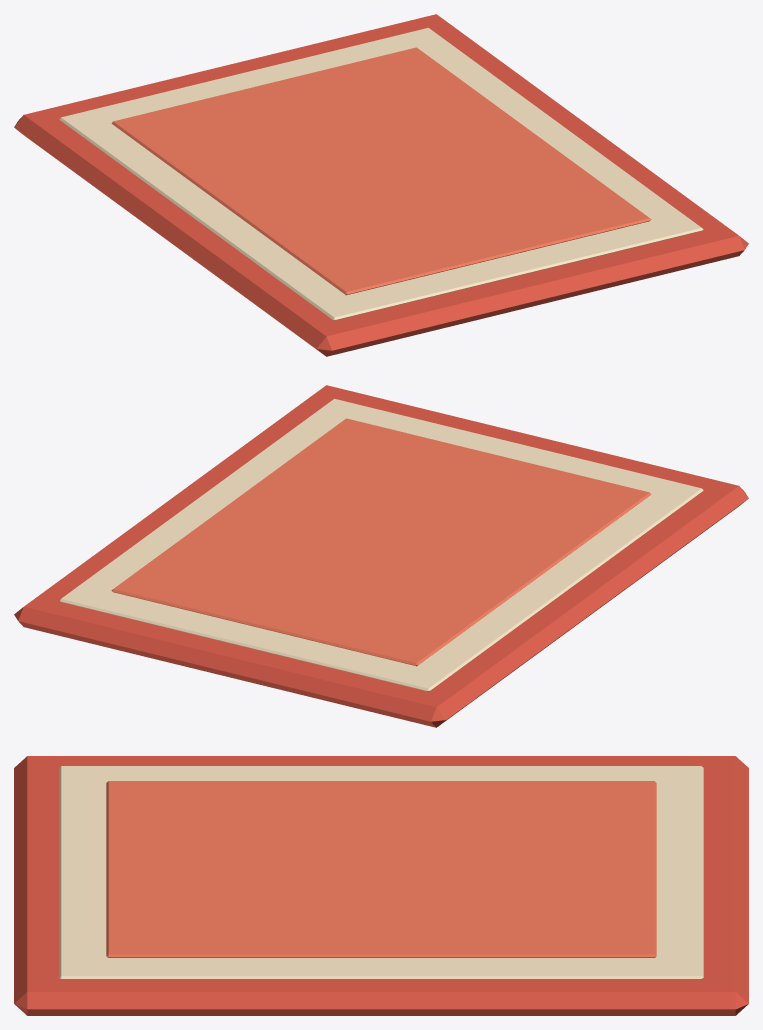
The model's file is _Rug.fbx.
The picture shows the model from 3 angles, top to bottom: view 1: azimuth 30°, elevation 25°; view 2: azimuth 150°, elevation 25°; view 3: azimuth 270°, elevation 25°; orthographic projection. The views are drawn at different scales.
Parts seen in each view (by area): view 1: 12_Rug / Coral center, 12_Rug / Coral rug, 12_Rug / Ivory border; view 2: 12_Rug / Coral center, 12_Rug / Coral rug, 12_Rug / Ivory border; view 3: 12_Rug / Coral center, 12_Rug / Coral rug, 12_Rug / Ivory border.
Part boxes in pixels (x1,y1,x2,y2): 12_Rug / Coral center: (111,47,651,295); 12_Rug / Coral rug: (14,14,748,356); 12_Rug / Ivory border: (59,28,703,320); 12_Rug / Coral center: (111,418,651,666); 12_Rug / Coral rug: (14,385,748,727); 12_Rug / Ivory border: (59,399,703,691); 12_Rug / Coral center: (106,781,656,957); 12_Rug / Coral rug: (14,756,748,1015); 12_Rug / Ivory border: (59,766,703,979).
Size of the model in its own units: 155 by 8.9 by 195.
